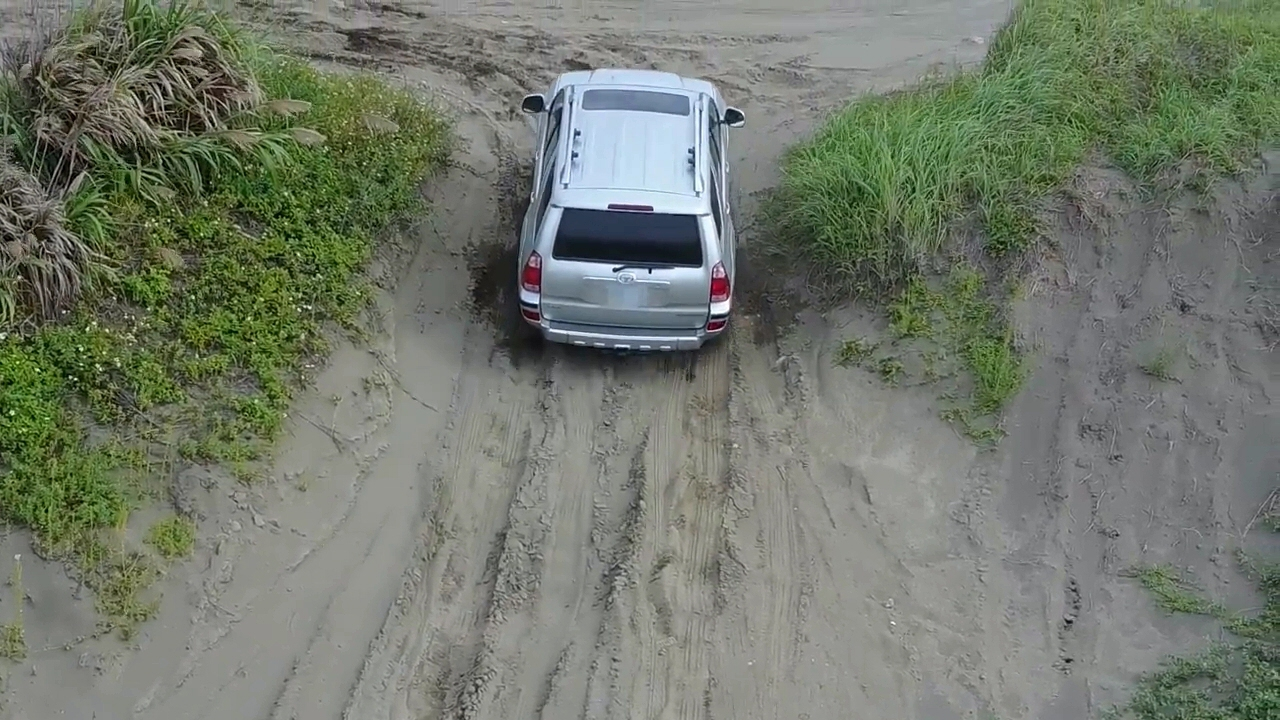araba: (510, 63, 744, 355)
